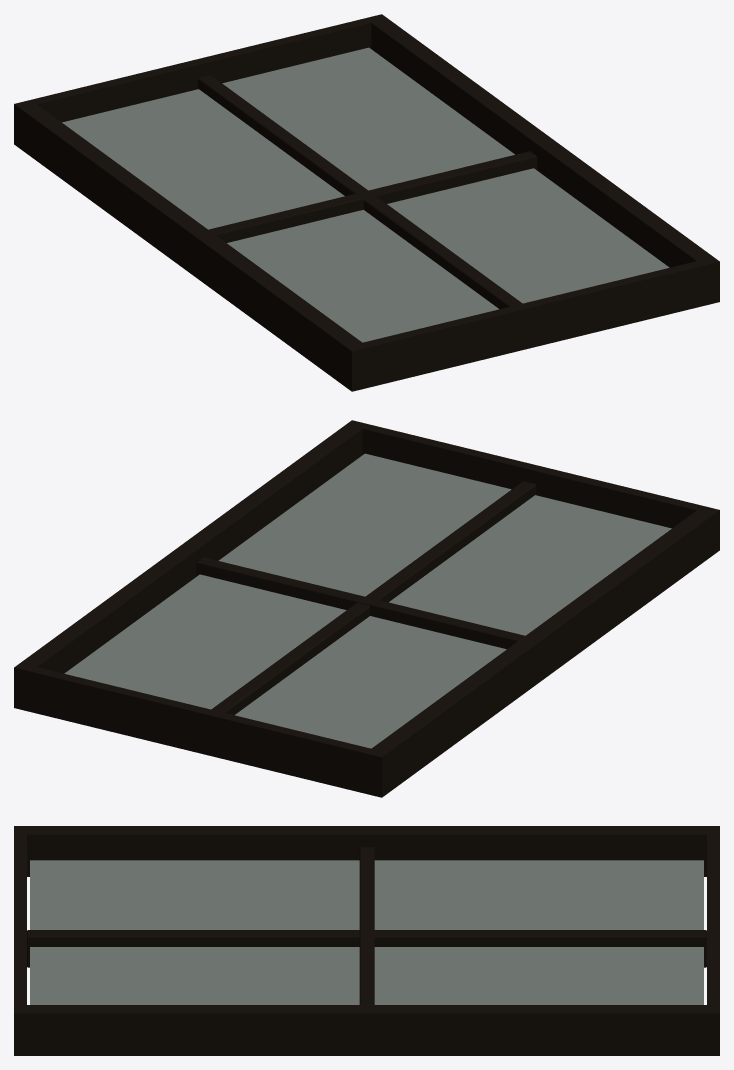
The model's file is pz_window_wooden_closed.obj.
The picture shows the model from 3 angles, top to bottom: view 1: azimuth 30°, elevation 25°; view 2: azimuth 150°, elevation 25°; view 3: azimuth 270°, elevation 25°; orthographic projection. The views are drawn at different scales.
Visible parts, largest first — view 1: pz_window_wooden_closed; view 2: pz_window_wooden_closed; view 3: pz_window_wooden_closed.
Boxes of the visible parts, box(x1,y1,x2,y2) form: pz_window_wooden_closed: box(14, 14, 719, 391); pz_window_wooden_closed: box(14, 420, 719, 797); pz_window_wooden_closed: box(14, 826, 719, 1055).
Bounding box in the file's own units: 0.6094 × 0.076 × 0.9696.
2 materials, 2 textured.
